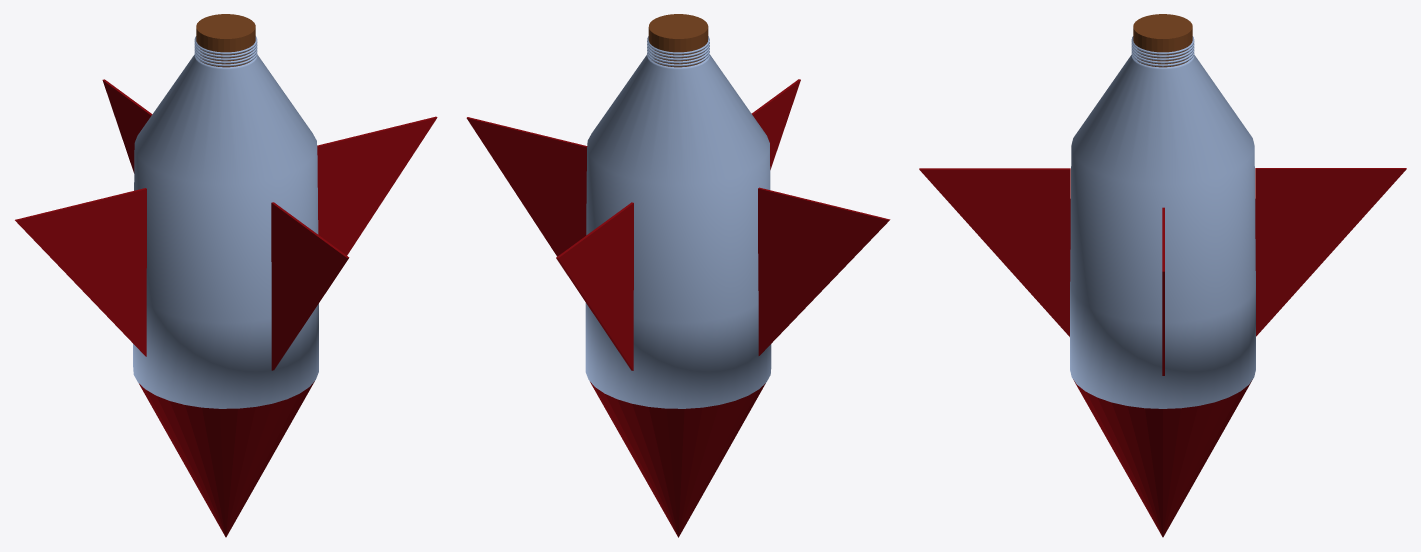
The model's file is bottle_rocket.fbx.
3 renders of one model, left to right at view 1: azimuth 30°, elevation 25°; view 2: azimuth 150°, elevation 25°; view 3: azimuth 270°, elevation 25°, orthographic.
Parts seen in each view (by area): view 1: Cylinder, Plane.003, Cone, Plane.001, Plane.002, Cylinder.001, Plane; view 2: Cylinder, Plane.003, Cone, Plane.001, Plane, Cylinder.001, Plane.002; view 3: Cylinder, Plane.002, Plane, Cone, Cylinder.001.
Boxes of the visible parts, <box> form: Cylinder: <box>133,36,318,408</box>; Plane.003: <box>15,188,146,356</box>; Cone: <box>139,381,314,537</box>; Plane.001: <box>317,116,437,255</box>; Plane.002: <box>271,202,349,370</box>; Cylinder.001: <box>196,14,255,67</box>; Plane: <box>102,79,152,173</box>; Cylinder: <box>585,36,771,408</box>; Plane.003: <box>758,187,890,355</box>; Cone: <box>590,382,765,537</box>; Plane.001: <box>466,117,587,256</box>; Plane: <box>556,202,633,370</box>; Cylinder.001: <box>648,14,708,67</box>; Plane.002: <box>751,79,800,169</box>; Cylinder: <box>1070,36,1255,408</box>; Plane.002: <box>919,168,1070,336</box>; Plane: <box>1255,168,1406,336</box>; Cone: <box>1073,379,1252,537</box>; Cylinder.001: <box>1133,14,1192,67</box>.
Bounding box in the file's own units: 524 × 606 × 524.
